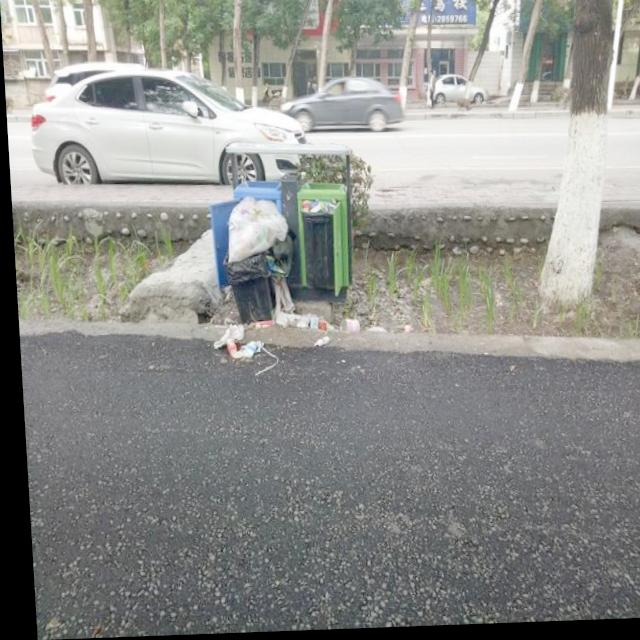garbage: (205, 298, 410, 380)
overflow: (205, 141, 353, 305)
